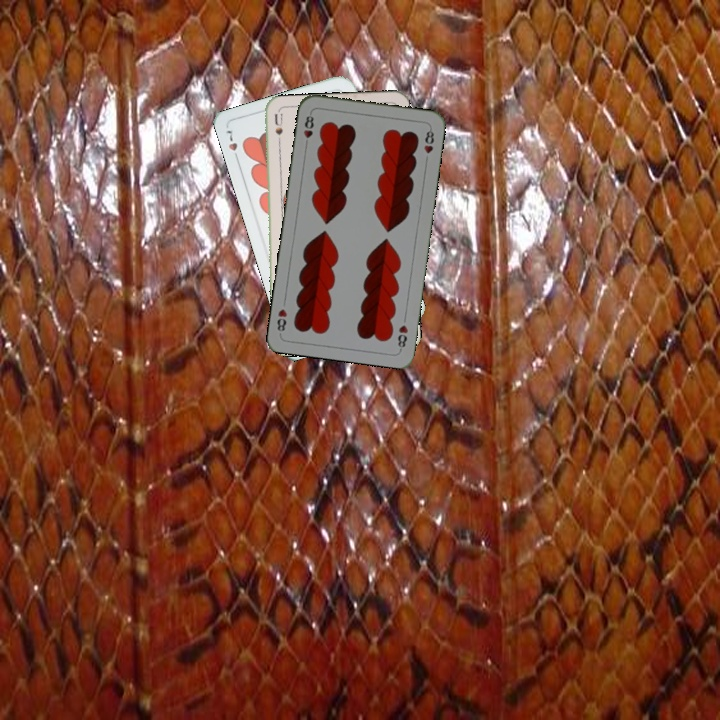H7: (222, 126, 242, 164)
H8: (300, 109, 316, 149), (394, 321, 410, 352)
SU: (270, 110, 285, 151)
